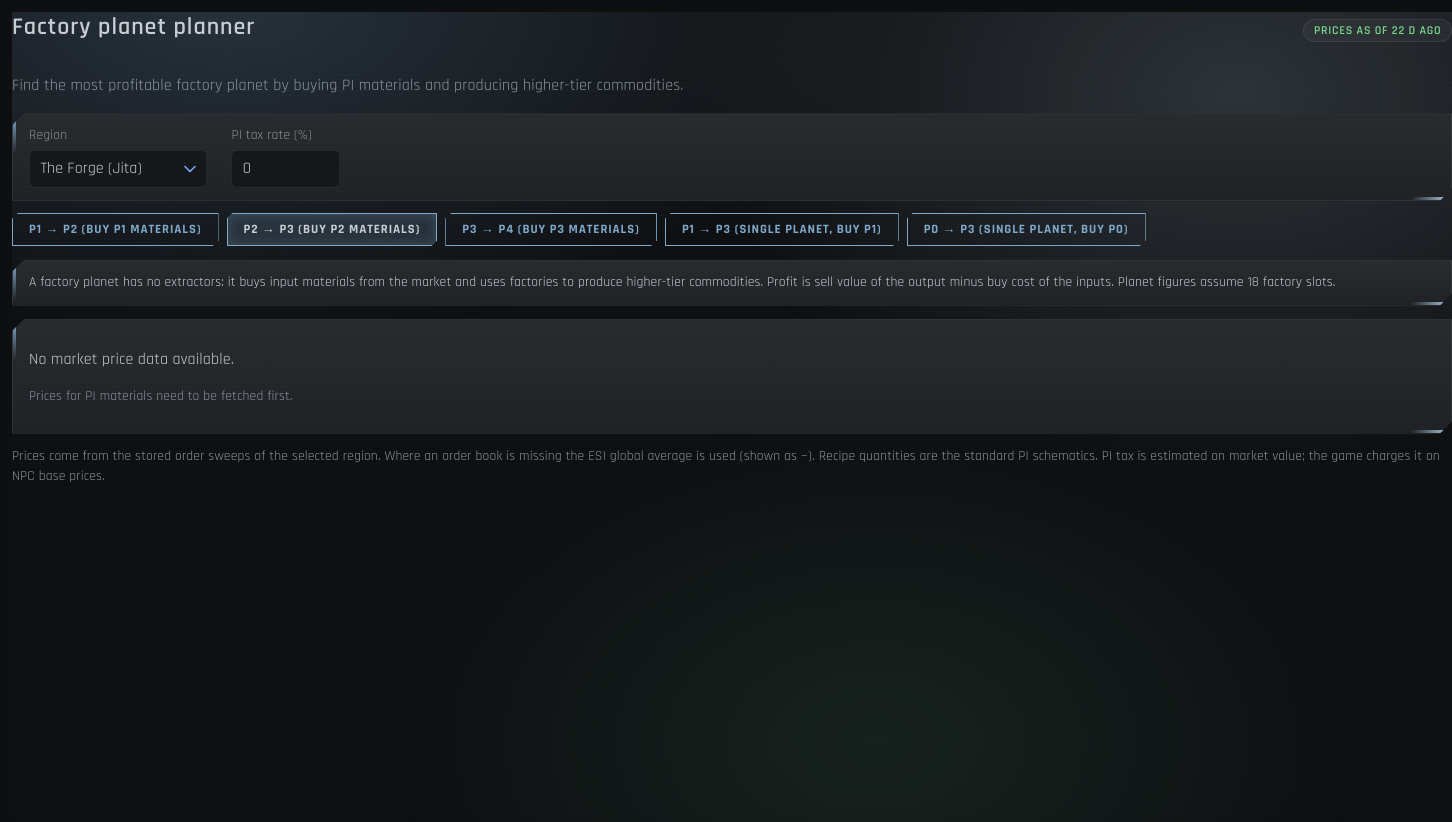
Test case: FactoryPlanner › shows the single-planet chain tier with its factory split
The image size is (1452, 822).
Expected: the text "No market price data available." is shown, [29, 349, 234, 370]
Click the tab "P1 → P3 (Single Planet, Buy P1)".
click(782, 230)  # box [665, 213, 899, 246]
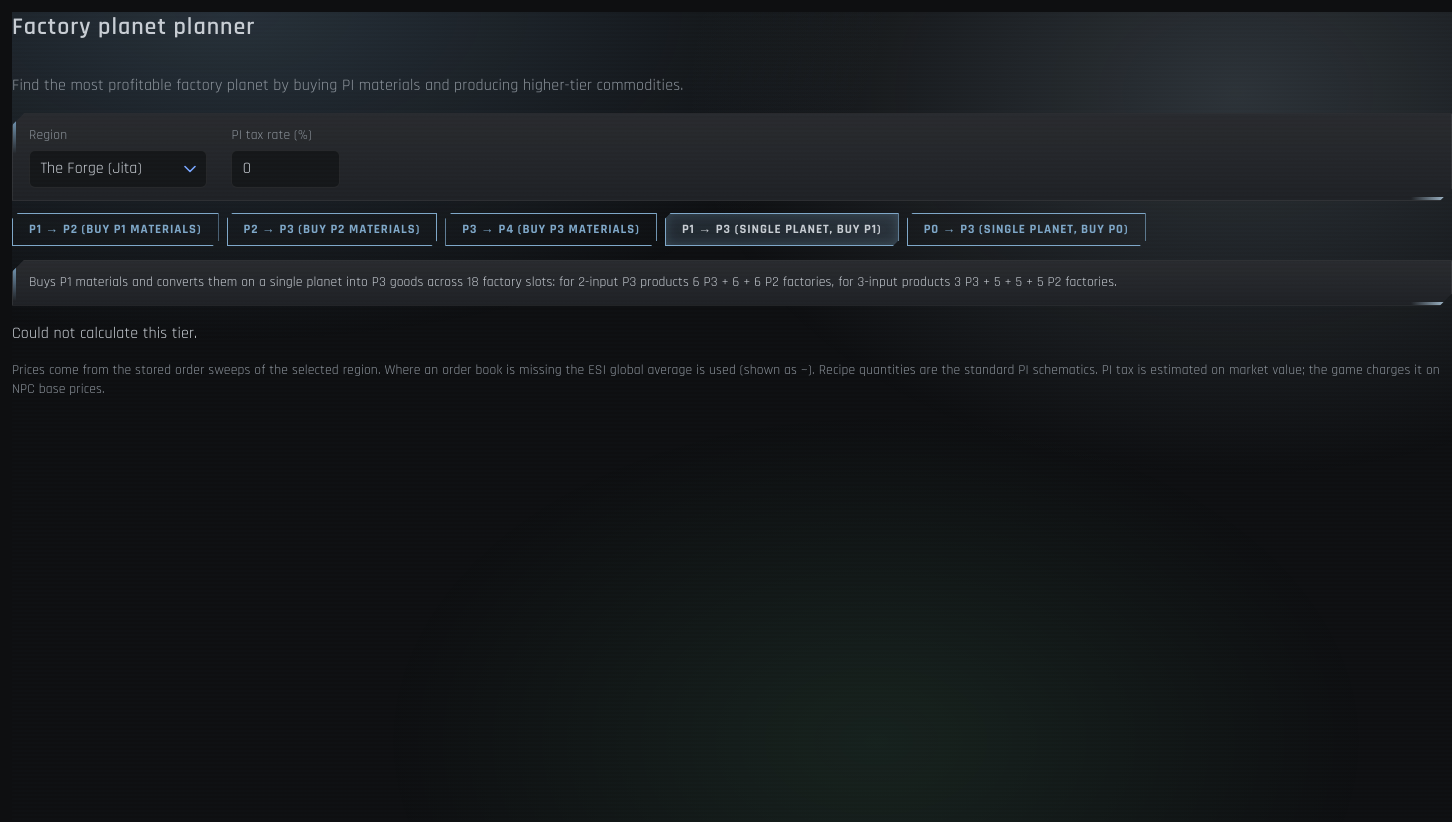
Now the tab "P1 → P3 (Single Planet, Buy P1)" is selected, box [665, 213, 899, 246]
